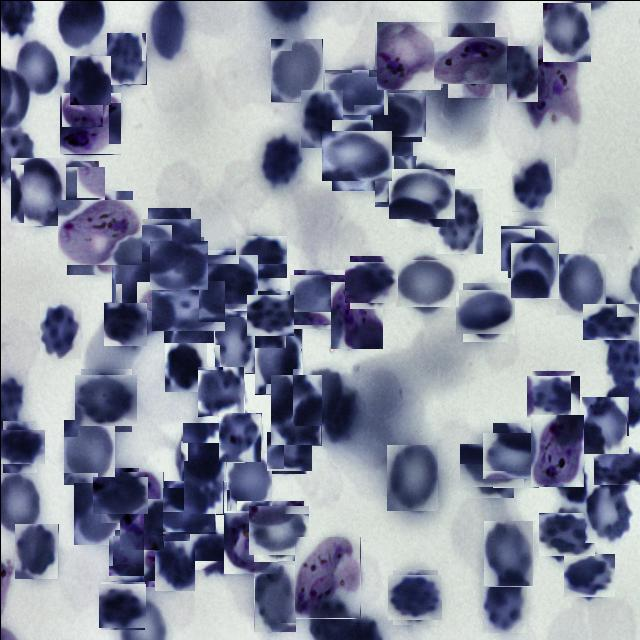red blood cell: (10, 157, 66, 226), (156, 274, 218, 336), (270, 374, 321, 445), (326, 124, 386, 184), (63, 419, 115, 485), (392, 163, 450, 222), (270, 38, 322, 102), (386, 444, 437, 509), (483, 520, 533, 586), (77, 371, 134, 428), (254, 328, 302, 394), (250, 502, 306, 558), (399, 254, 454, 310), (435, 188, 482, 253), (555, 253, 605, 314), (487, 427, 542, 482), (584, 479, 632, 542), (111, 246, 158, 310), (291, 271, 345, 326), (158, 483, 212, 538), (328, 64, 382, 119), (253, 564, 296, 632), (464, 438, 518, 492), (202, 252, 256, 306), (142, 212, 196, 266), (151, 238, 205, 292), (73, 482, 120, 544), (292, 368, 343, 425), (11, 38, 60, 97), (481, 569, 526, 632), (542, 2, 590, 61), (581, 396, 629, 454), (458, 286, 511, 338), (226, 452, 272, 511), (180, 422, 226, 481), (49, 163, 101, 215), (504, 222, 556, 274), (510, 242, 558, 298), (111, 532, 162, 583), (214, 310, 255, 373), (390, 572, 440, 622), (541, 509, 591, 559), (14, 523, 58, 579), (258, 132, 302, 188), (300, 89, 342, 147), (374, 90, 424, 138), (511, 157, 555, 211), (197, 366, 244, 416), (369, 104, 412, 158), (564, 550, 612, 598), (528, 372, 576, 420), (39, 302, 80, 358), (61, 70, 102, 126), (346, 258, 394, 305), (237, 233, 284, 280), (183, 460, 223, 514), (218, 412, 261, 462), (164, 340, 206, 391), (374, 155, 416, 206), (587, 297, 633, 343), (99, 582, 145, 628), (96, 472, 142, 518), (106, 32, 146, 84), (69, 55, 110, 104), (154, 540, 194, 590), (594, 442, 638, 486), (248, 292, 292, 336), (192, 530, 236, 572), (102, 302, 146, 344), (267, 429, 309, 472), (0, 425, 41, 468), (506, 45, 537, 101)
ring: (294, 536, 360, 618), (223, 510, 277, 572)
trophozoite: (62, 194, 136, 270), (374, 21, 442, 88), (525, 49, 579, 126), (530, 414, 583, 486), (440, 29, 501, 90), (60, 92, 120, 154), (330, 281, 382, 348), (119, 471, 163, 550)
